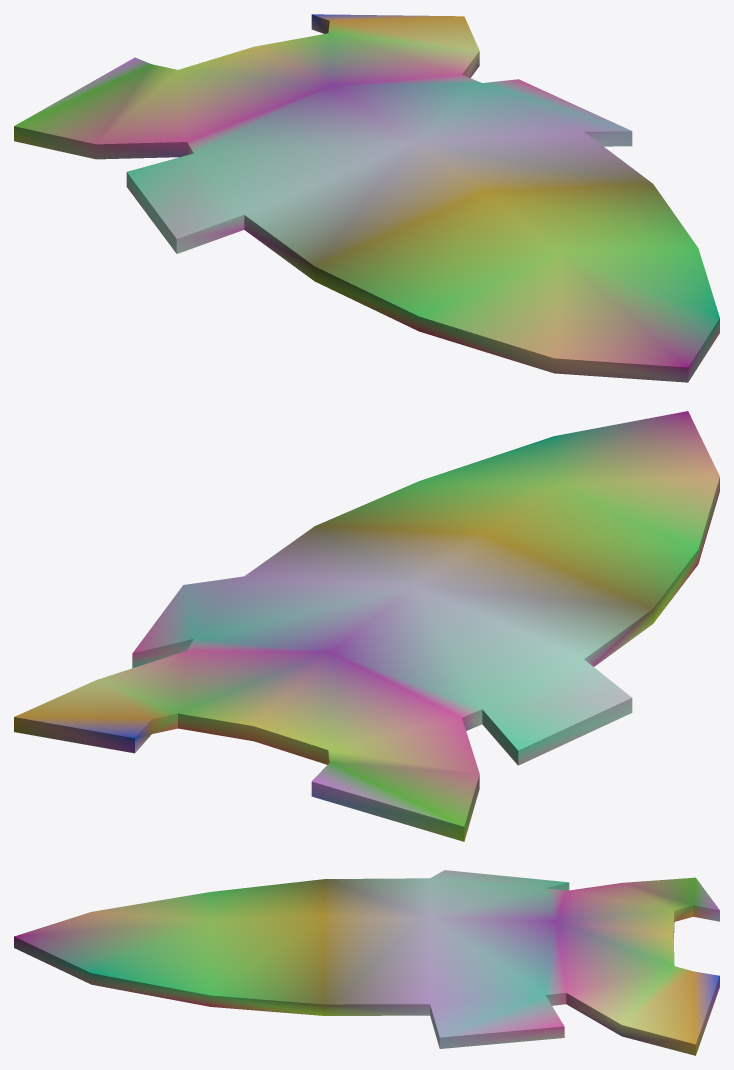
Rendered from TikiShield_B.glb.
The picture shows the model from 3 angles, top to bottom: view 1: azimuth 30°, elevation 25°; view 2: azimuth 150°, elevation 25°; view 3: azimuth 270°, elevation 25°; orthographic projection. The views are drawn at different scales.
Visible parts, largest first — view 1: MeshNode_0; view 2: MeshNode_0; view 3: MeshNode_0.
Boxes of the visible parts, box(x1,y1,x2,y2) form: MeshNode_0: box(14, 14, 719, 382); MeshNode_0: box(14, 411, 719, 841); MeshNode_0: box(14, 870, 719, 1055).
Size of the model in its own units: 2.73 by 0.4251 by 4.86.
